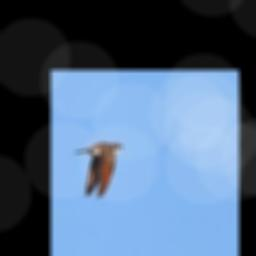Cuckoo: (73, 141, 123, 197)
